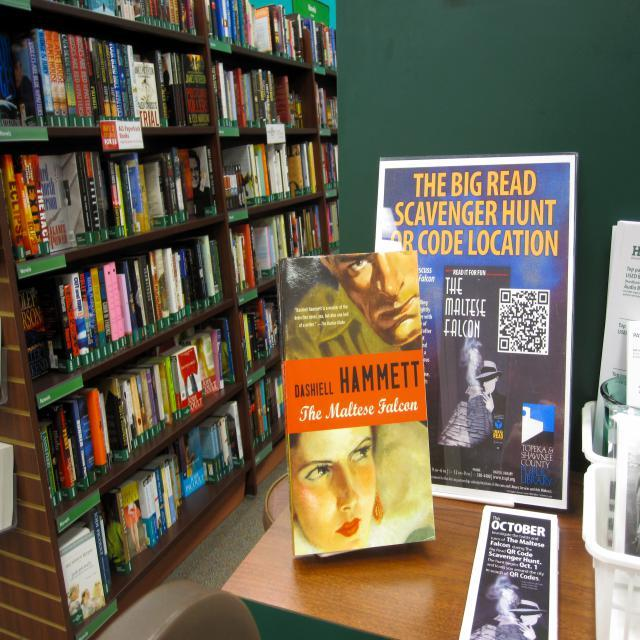qrcode: (500, 291, 549, 354)
